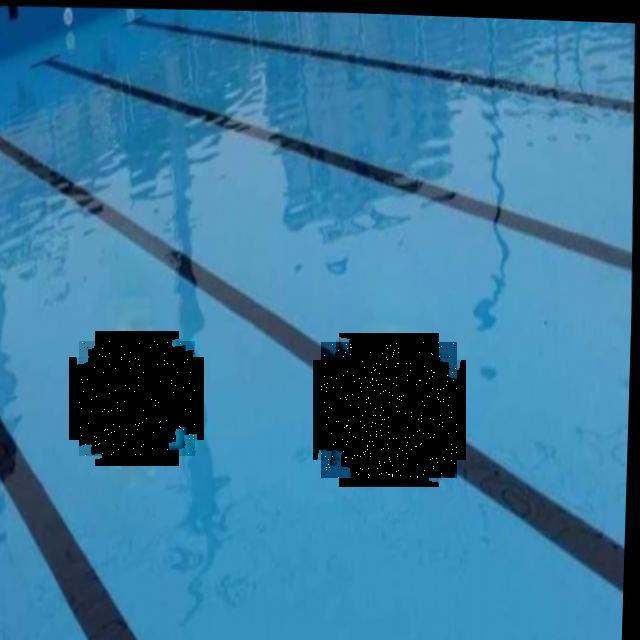swimming: (321, 342, 457, 478), (79, 341, 195, 456)
